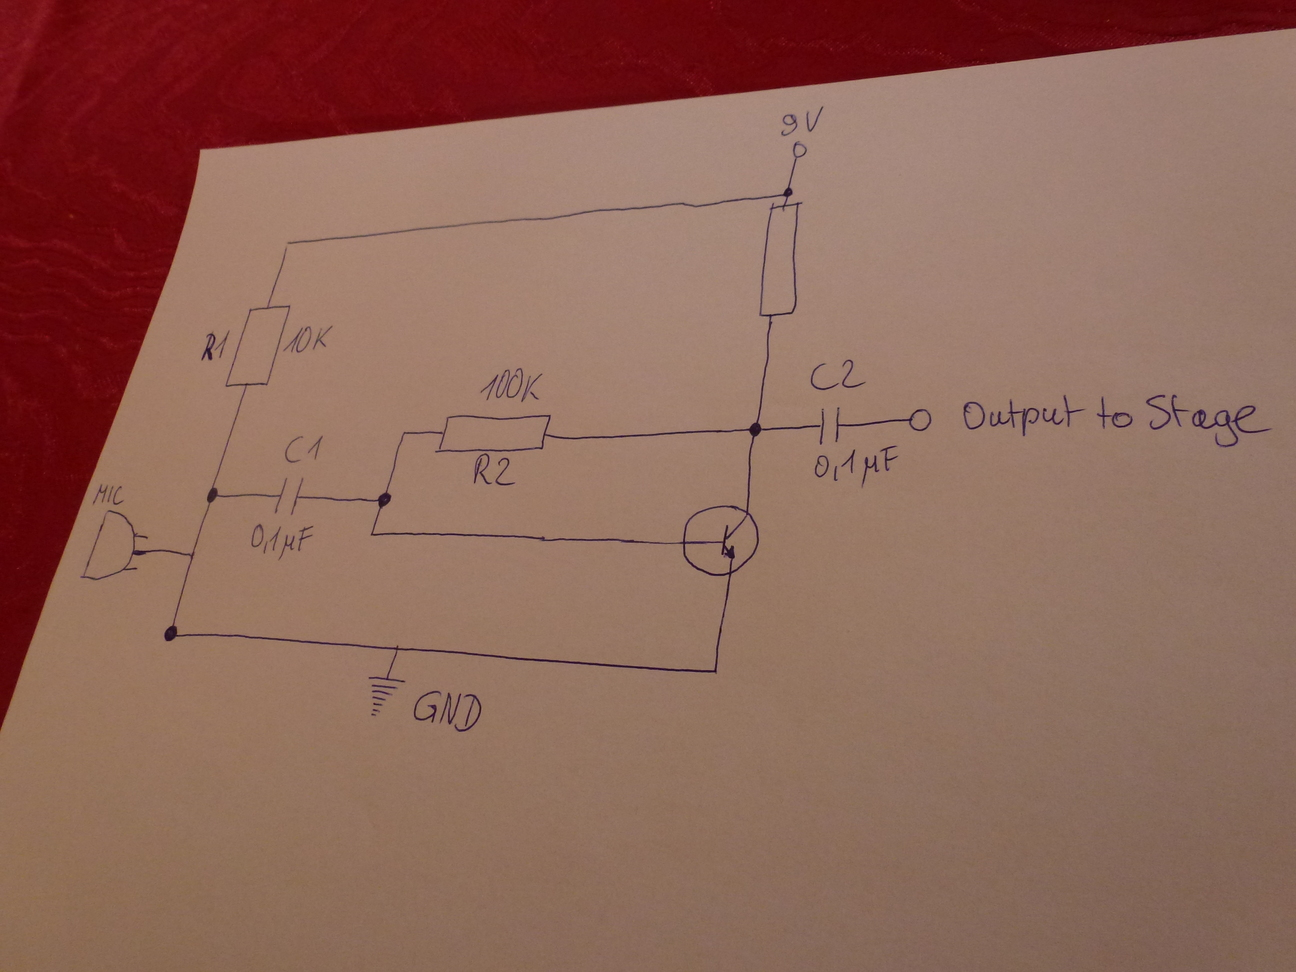capacitor.unpolarized: (810, 404, 850, 448), (269, 476, 307, 521)
gnd: (364, 669, 405, 716)
junction: (745, 417, 766, 440), (162, 622, 181, 643), (205, 486, 223, 505), (778, 184, 797, 202), (375, 490, 392, 511), (388, 640, 404, 657), (707, 663, 721, 678), (281, 236, 295, 250), (398, 425, 410, 439), (367, 528, 378, 540), (185, 548, 196, 558)
microphone: (78, 509, 150, 583)
resistor: (755, 202, 810, 324), (227, 302, 286, 394), (439, 410, 552, 455)
terminal: (901, 402, 933, 437), (789, 141, 809, 161)
text: (936, 391, 1296, 447), (811, 444, 901, 490), (412, 688, 484, 734), (473, 364, 546, 406), (247, 520, 314, 558), (807, 356, 867, 391), (469, 450, 519, 490), (281, 322, 336, 356), (778, 104, 827, 136), (282, 431, 325, 463), (197, 329, 231, 364), (91, 482, 129, 505)
transistor: (677, 502, 769, 577)
